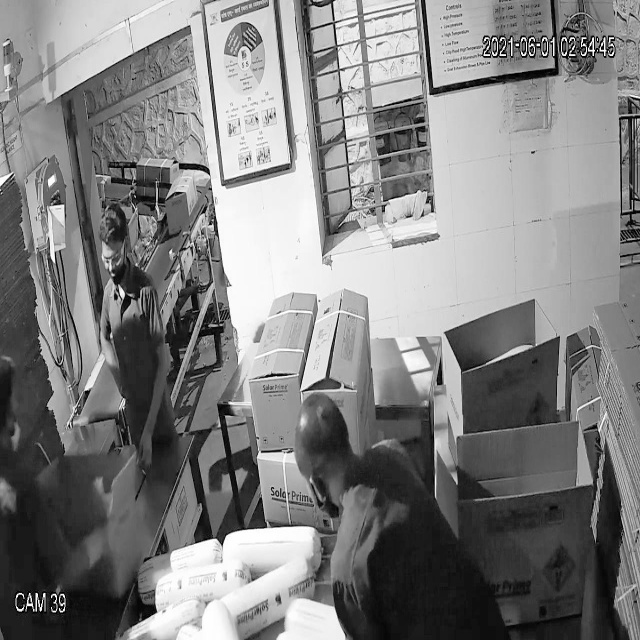Gafas: (98, 241, 133, 276)
